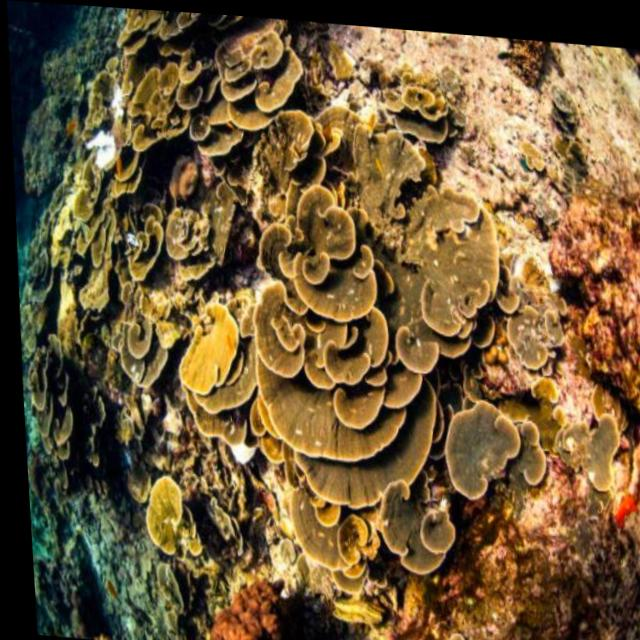Healthy Coral: (79, 12, 538, 531)
